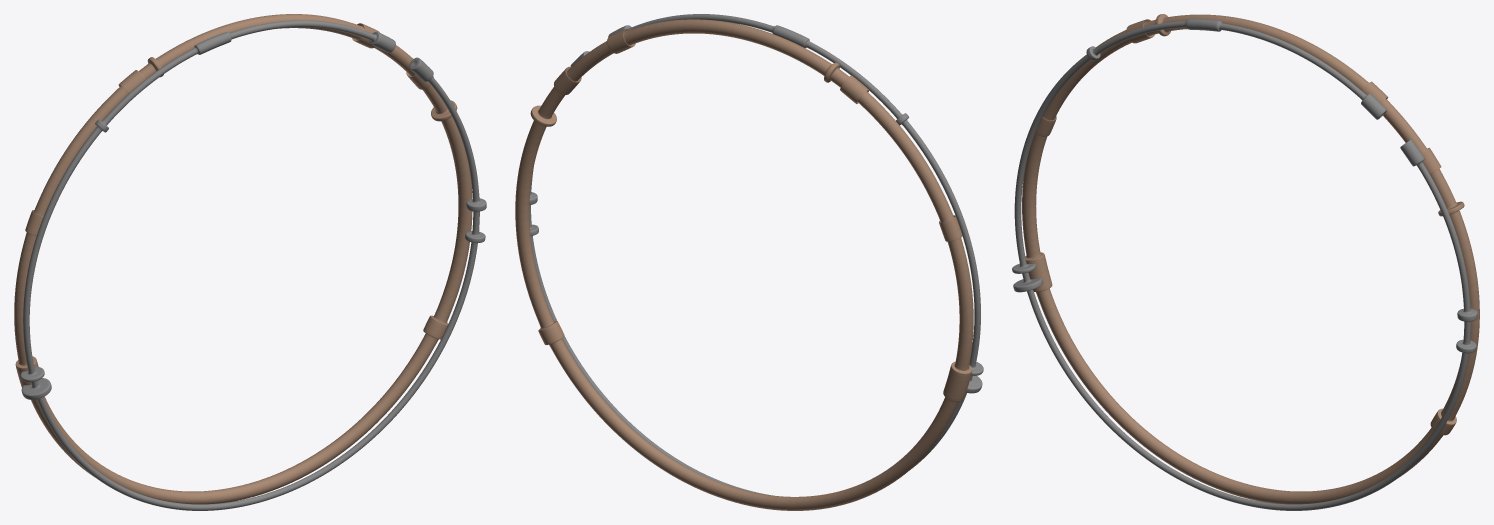
File: 1 round pipe deco.fbx
3 renders of one model, left to right at view 1: azimuth 30°, elevation 25°; view 2: azimuth 150°, elevation 25°; view 3: azimuth 330°, elevation 25°, orthographic.
Visible parts, largest first — view 1: round pipe.002; view 2: round pipe.002; view 3: round pipe.002.
Part boxes in pixels (bbox=[...]): round pipe.002: bbox=[14, 14, 486, 510]; round pipe.002: bbox=[515, 14, 983, 510]; round pipe.002: bbox=[1012, 14, 1479, 510].
Bounding box in the file's own units: 1649 × 1626 × 139.
